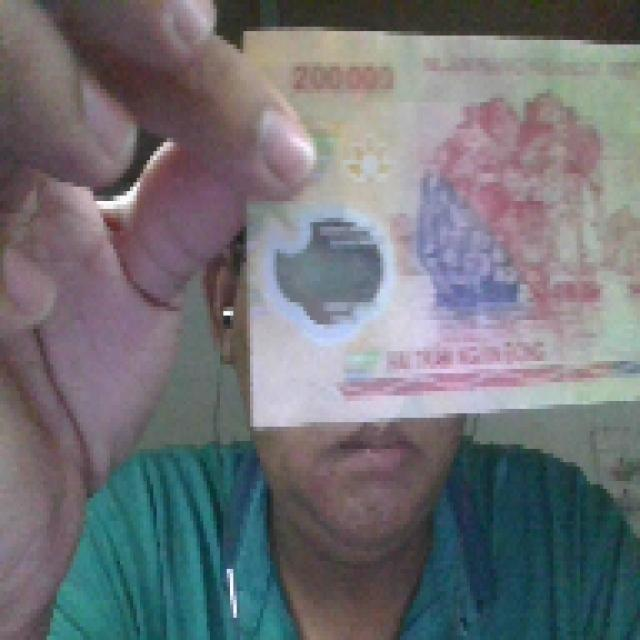200 000 VND: (233, 18, 637, 431)
